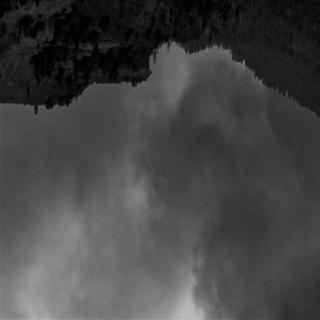Smoke: (1, 43, 320, 320)
